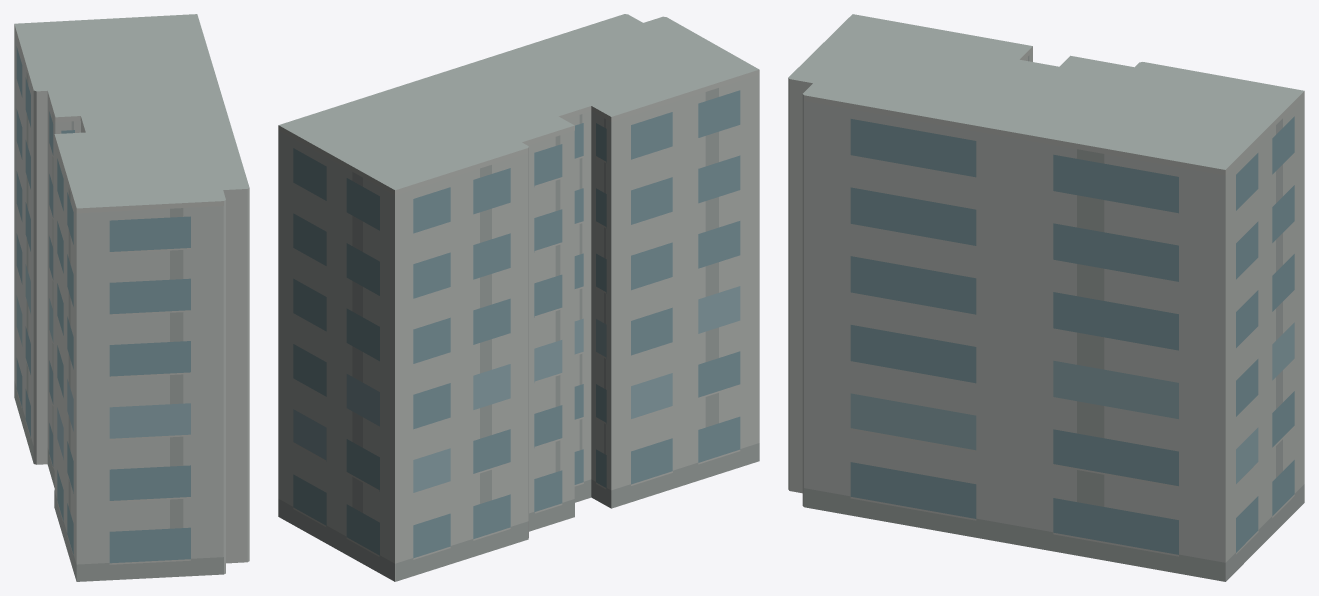
The model's file is survey-upis-32561067.glb.
3 renders of one model, left to right at view 1: azimuth 30°, elevation 25°; view 2: azimuth 150°, elevation 25°; view 3: azimuth 270°, elevation 25°, orthographic. The views are drawn at different scales.
Parts seen in each view (by area): view 1: survey-upis-32561067.tmp; view 2: survey-upis-32561067.tmp; view 3: survey-upis-32561067.tmp.
Part boxes in pixels (x1=…): survey-upis-32561067.tmp: x1=14, y1=14, x2=249, y2=581; survey-upis-32561067.tmp: x1=278, y1=14, x2=759, y2=581; survey-upis-32561067.tmp: x1=788, y1=14, x2=1304, y2=581.
Size of the model in its own units: 14.87 by 18.3 by 20.8.
